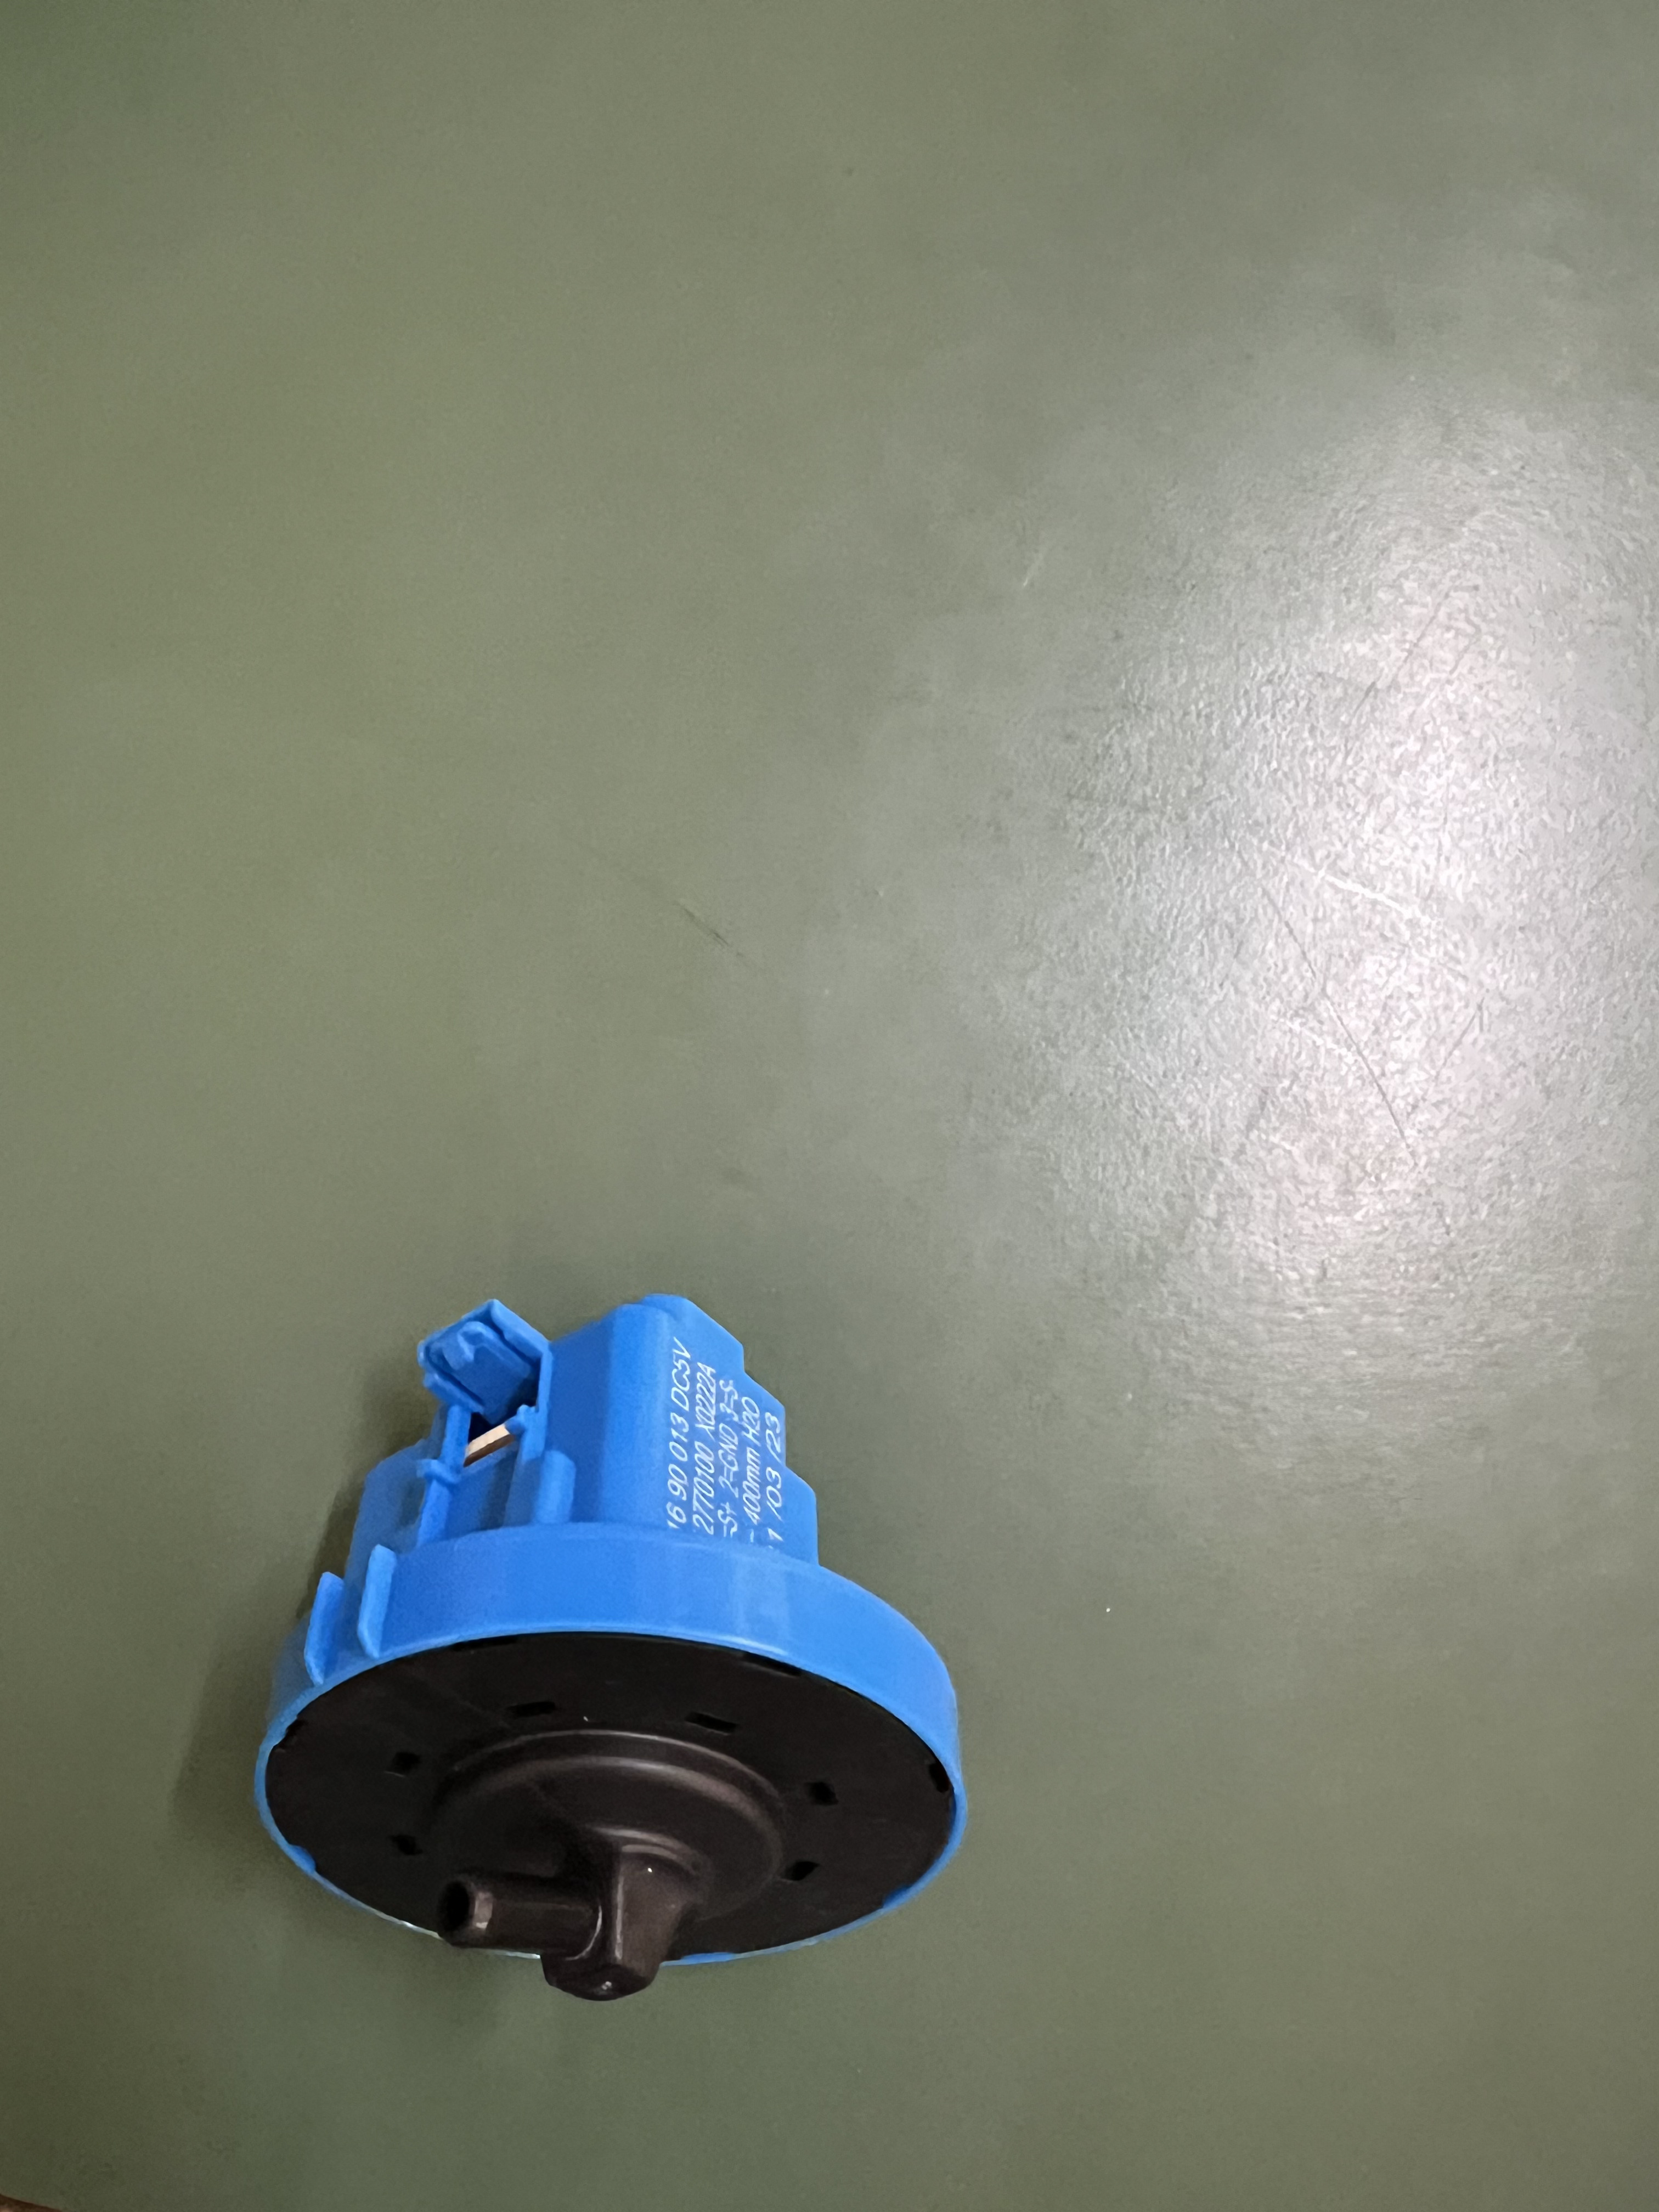voltas_beko_pressure_switch: (216, 1244, 1002, 2012)
